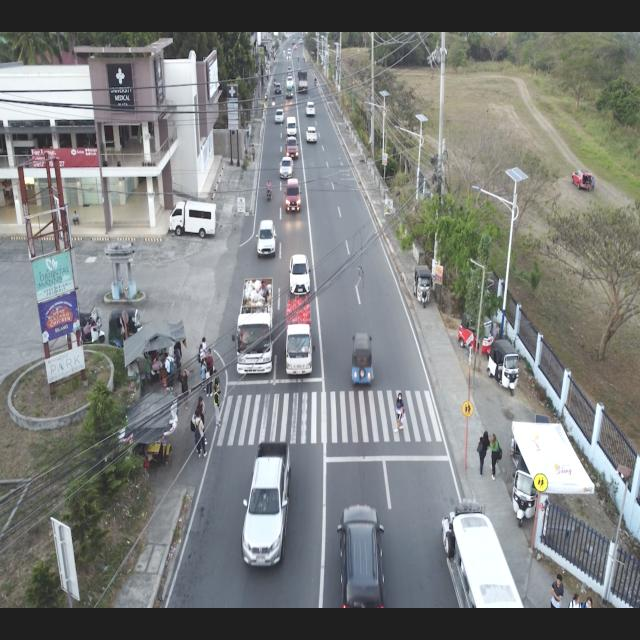car: (439, 496, 526, 609), (238, 438, 292, 571), (334, 500, 388, 608), (168, 198, 217, 240), (288, 253, 312, 297), (256, 219, 277, 259), (284, 178, 302, 215), (571, 169, 592, 190), (278, 156, 294, 180), (285, 135, 299, 160), (286, 116, 298, 139), (305, 126, 318, 144), (274, 108, 285, 125), (305, 101, 316, 118), (285, 85, 293, 100), (274, 82, 282, 95), (286, 75, 294, 88), (286, 65, 292, 73), (286, 53, 291, 60), (288, 48, 292, 56), (292, 39, 296, 45), (299, 38, 303, 44), (294, 45, 297, 50)
motorcycle: (266, 178, 272, 202), (314, 77, 317, 86), (297, 56, 299, 62)
person: (191, 408, 208, 458), (489, 432, 503, 482), (194, 396, 208, 446), (476, 430, 490, 478), (550, 573, 564, 610), (394, 392, 406, 434), (179, 368, 190, 411), (163, 352, 175, 391), (213, 385, 223, 429), (144, 351, 154, 388), (204, 360, 213, 397), (200, 358, 208, 392), (212, 368, 220, 401), (568, 592, 582, 610), (206, 347, 214, 374), (580, 596, 594, 609), (72, 210, 80, 226), (198, 343, 204, 364), (202, 336, 208, 356), (251, 144, 255, 162)
truck: (232, 276, 276, 378), (283, 292, 316, 378), (297, 71, 308, 94)
